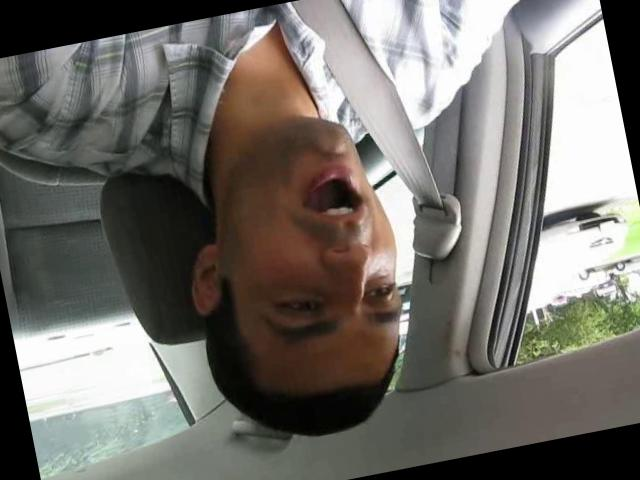eye_open: (271, 286, 330, 324), (359, 277, 401, 308)
face: (222, 130, 422, 364)
mouth_open: (291, 158, 370, 228)
